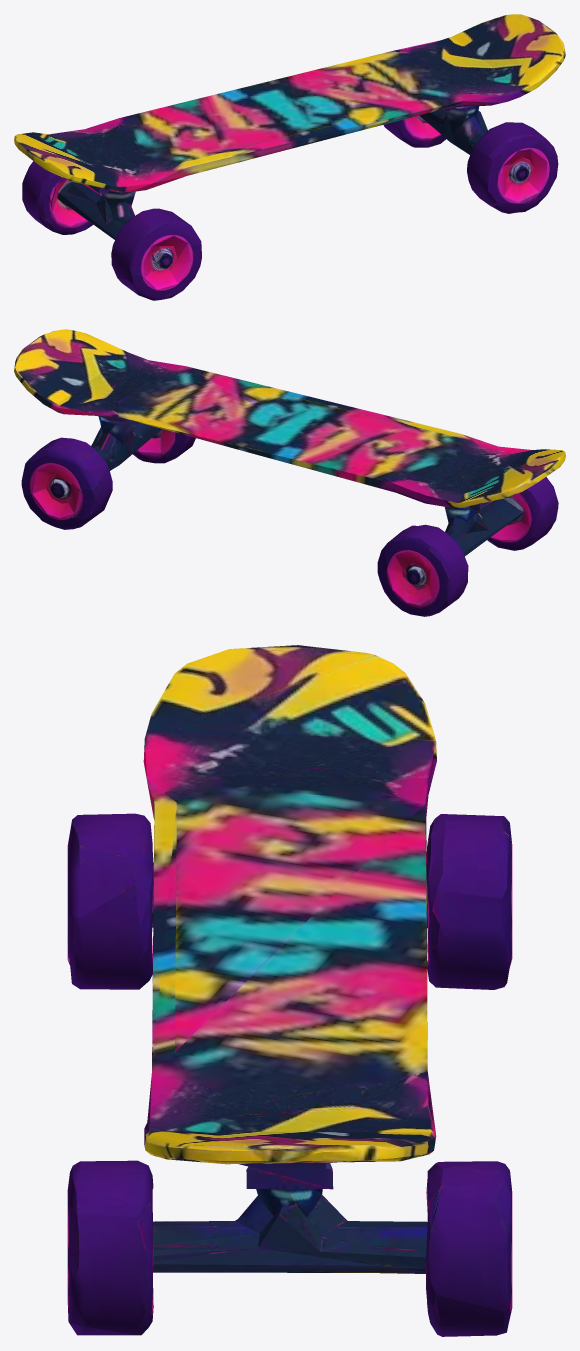
File: e_skateboard.glb
The picture shows the model from 3 angles, top to bottom: view 1: azimuth 30°, elevation 25°; view 2: azimuth 150°, elevation 25°; view 3: azimuth 270°, elevation 25°; orthographic projection. The views are drawn at different scales.
Bounding box in the file's own units: 1.9 × 0.4523 × 0.7035.
Materials: 1 (1 with a texture image).
